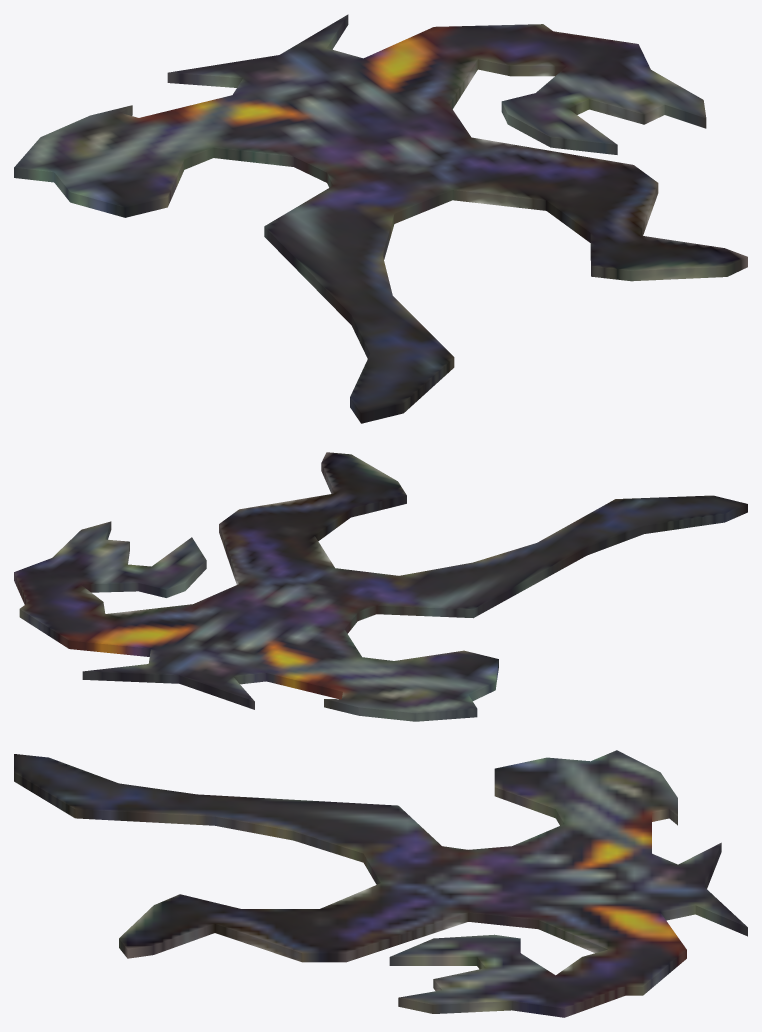
Rendered from MaQuai.glb.
The picture shows the model from 3 angles, top to bottom: view 1: azimuth 30°, elevation 25°; view 2: azimuth 150°, elevation 25°; view 3: azimuth 270°, elevation 25°; orthographic projection. The views are drawn at different scales.
Visible parts, largest first — view 1: MaQuai; view 2: MaQuai; view 3: MaQuai.
Part boxes in pixels (x1=…): MaQuai: x1=14, y1=14, x2=747, y2=423; MaQuai: x1=14, y1=452, x2=747, y2=721; MaQuai: x1=14, y1=750, x2=747, y2=1017.
Size of the model in its own units: 0.302 by 0.005 by 0.3624.
Materials: 1 (1 with a texture image).
